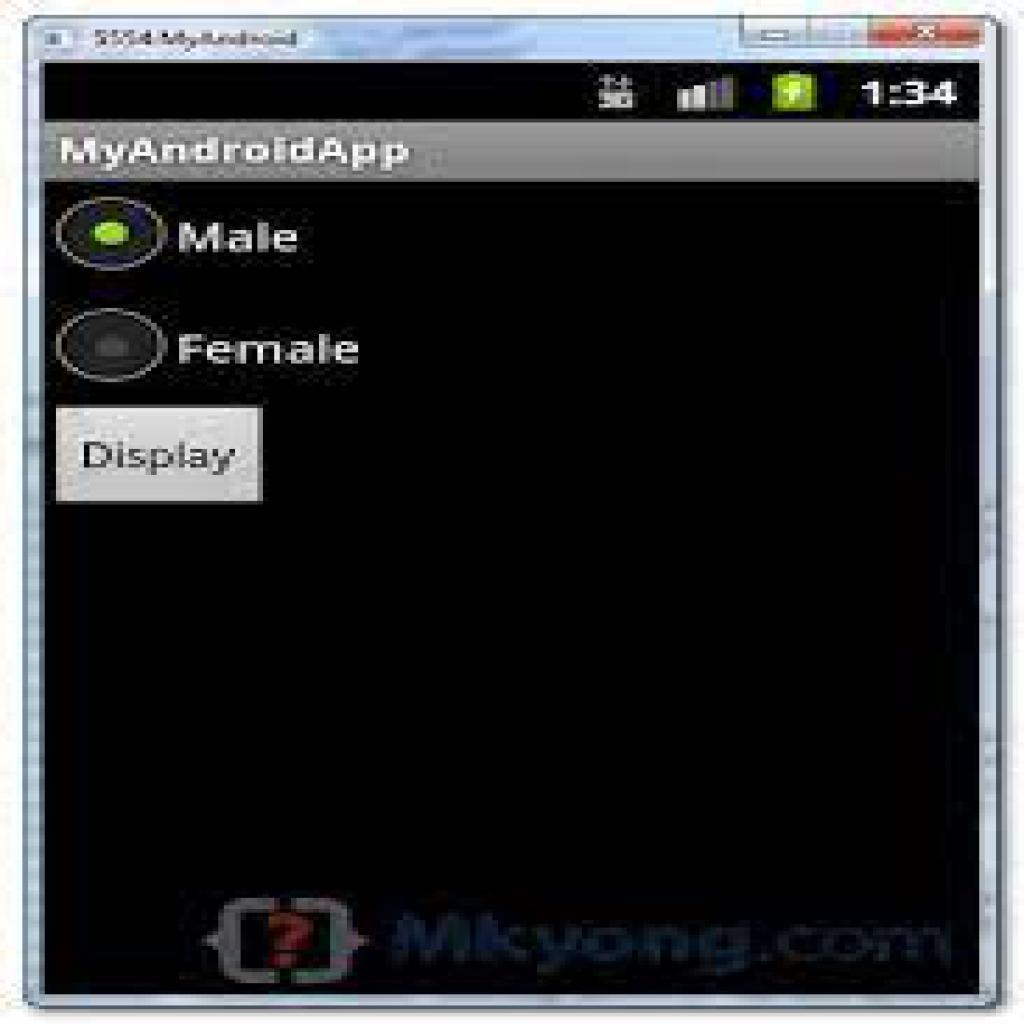button: (55, 407, 264, 502)
label: (178, 332, 365, 374), (181, 218, 301, 258)
radio: (53, 305, 168, 385), (55, 197, 172, 275)
